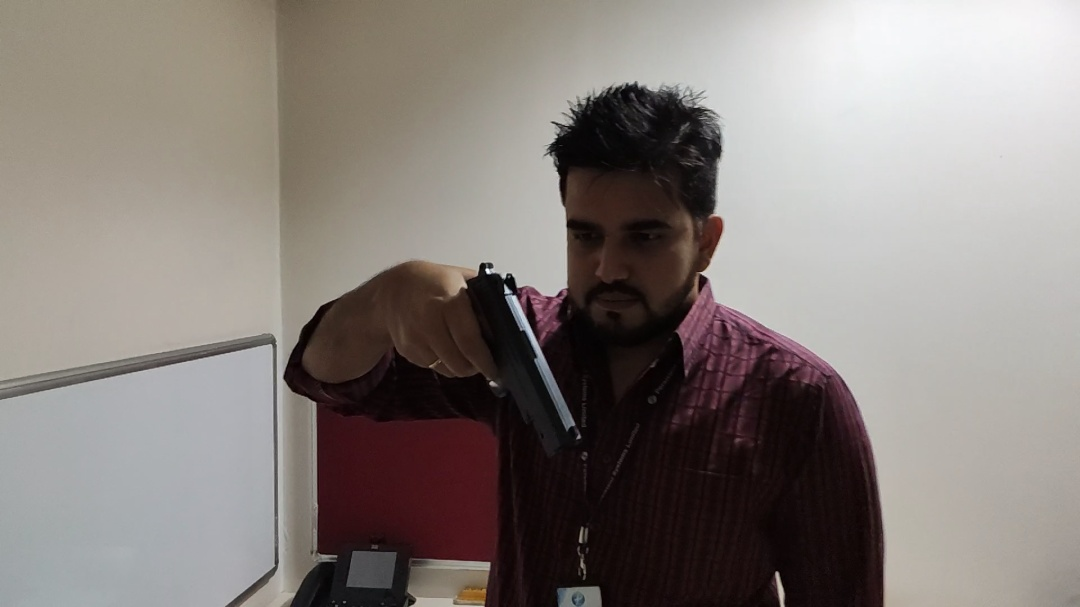gun: (274, 197, 744, 462)
